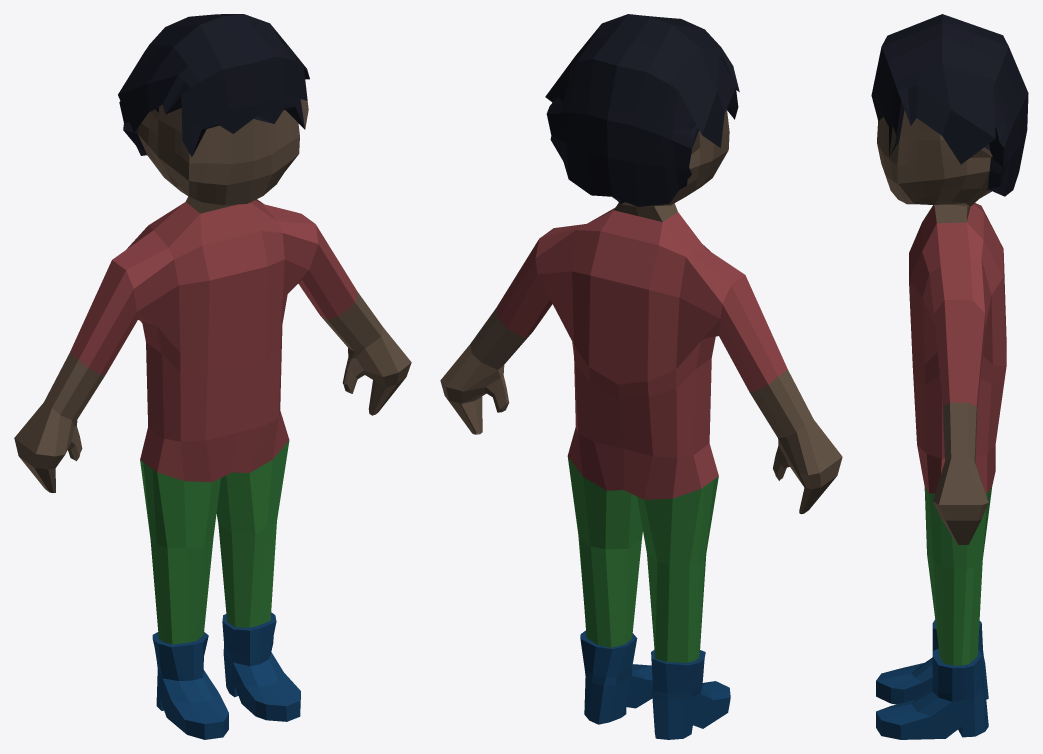
The model's file is MainCharacter_Textured.fbx.
3 views of the same model, side by side, from view 1: azimuth 30°, elevation 25°; view 2: azimuth 150°, elevation 25°; view 3: azimuth 270°, elevation 25° (orthographic).
Parts seen in each view (by area): view 1: Cube; view 2: Cube; view 3: Cube.
Boxes of the visible parts, bbox=[...] form: Cube: bbox=[14, 14, 411, 739]; Cube: bbox=[440, 14, 842, 739]; Cube: bbox=[871, 14, 1028, 739].
Bounding box in the file's own units: 56.68 × 99.34 × 20.47.
Materials: 1 (1 with a texture image).
